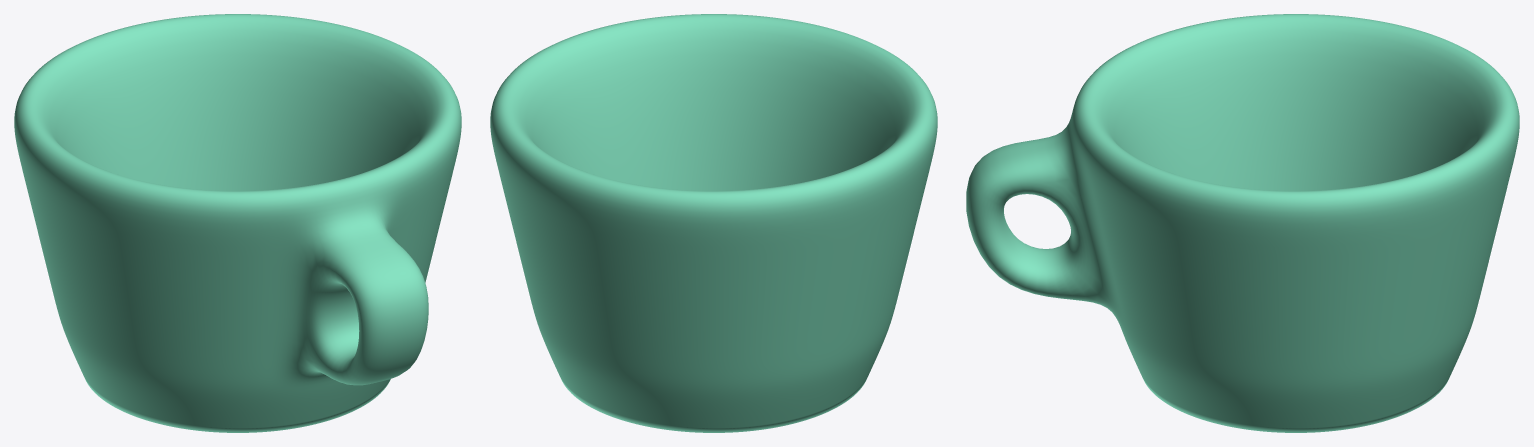
The model's file is mug3.glb.
The picture shows the model from 3 angles, left to right: view 1: azimuth 30°, elevation 25°; view 2: azimuth 150°, elevation 25°; view 3: azimuth 270°, elevation 25°; orthographic projection.
Parts seen in each view (by area): view 1: tazza__0; view 2: tazza__0; view 3: tazza__0.
Boxes of the visible parts, x1,y1,x2,y2 form: tazza__0: (14,14,461,432); tazza__0: (490,14,937,432); tazza__0: (966,14,1519,432).
Bounding box in the file's own units: 4.34 × 3 × 5.38.
